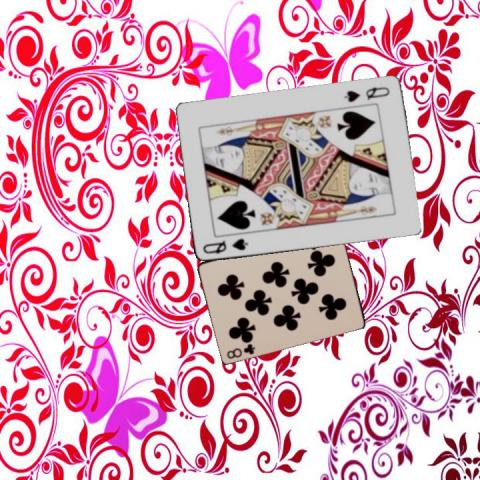8c: (224, 341, 257, 360)
Qs: (200, 236, 250, 256), (342, 84, 391, 104)
